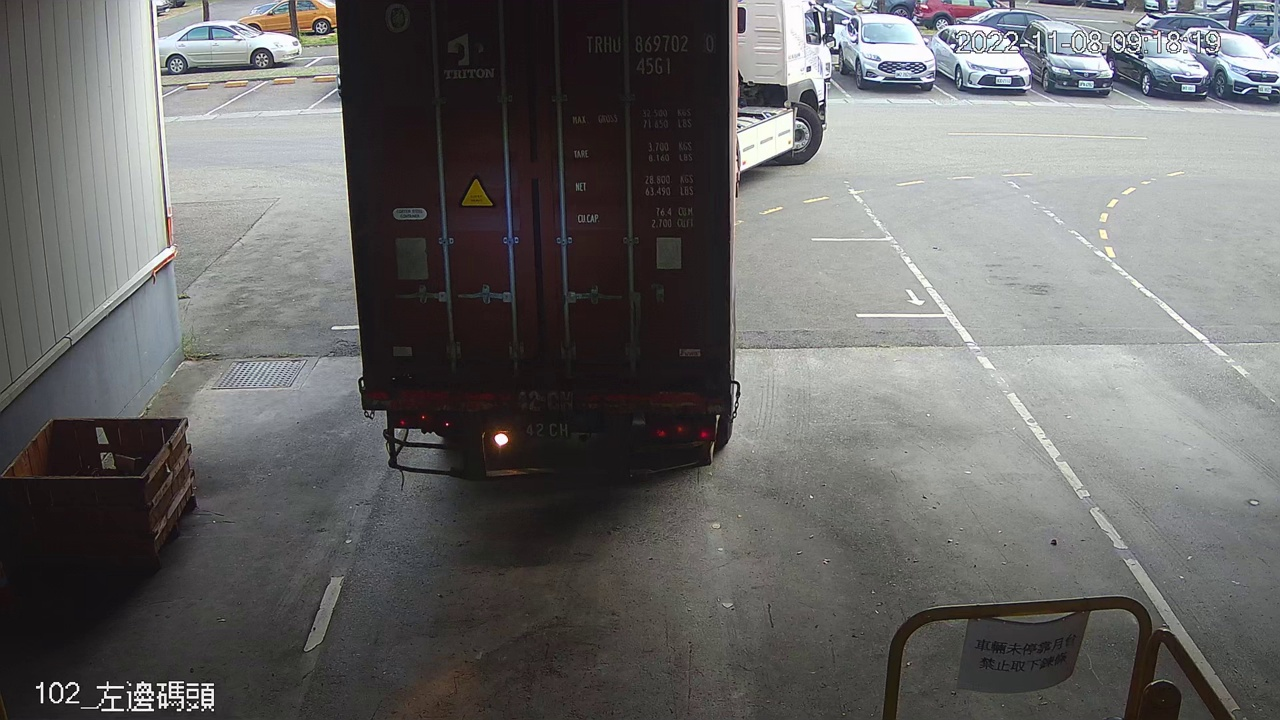container: (576, 26, 720, 80)
